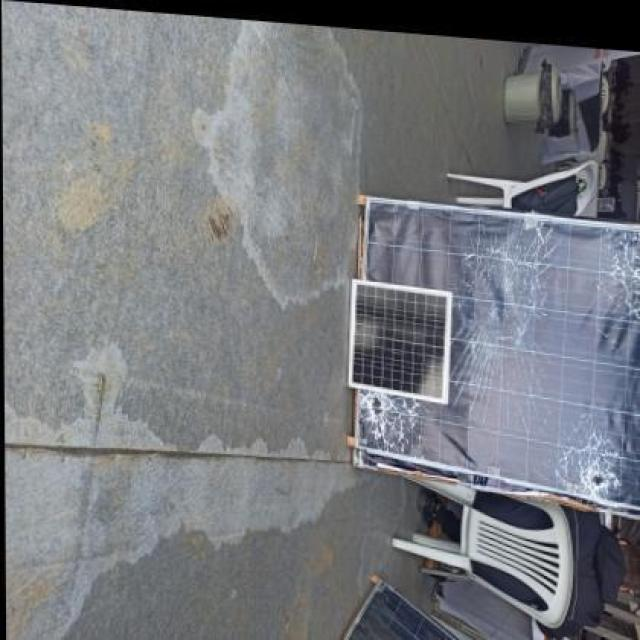cracked: (352, 202, 640, 504)
